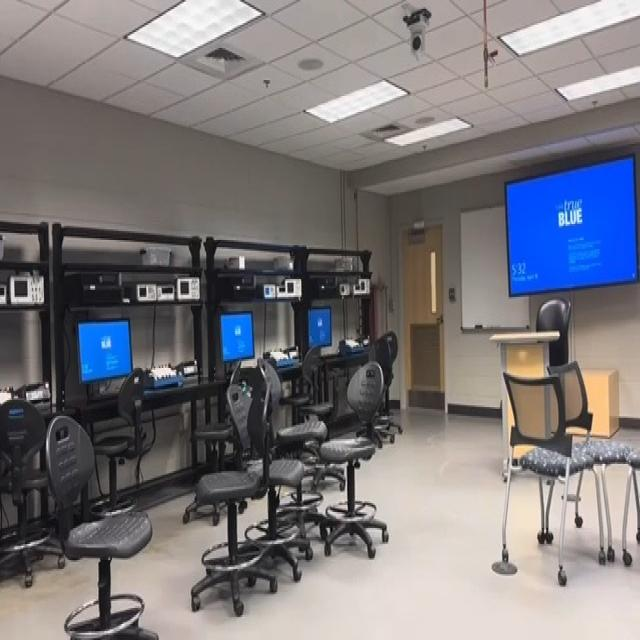drone: (227, 370, 260, 408)
